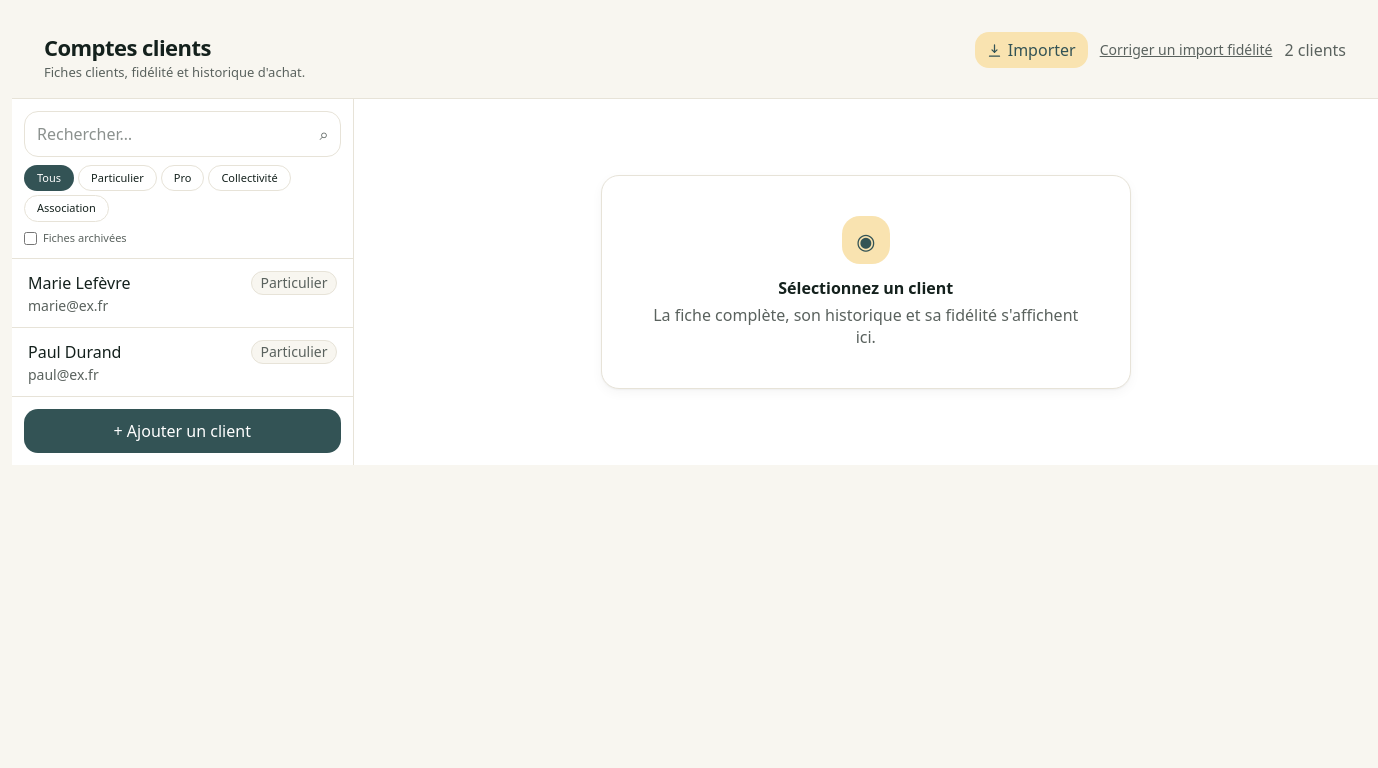
Fiche client — puces boutique(s) d'achat › affiche une puce par boutique où le client a déjà acheté, avec le vrai nom de la boutique
Click the text "Marie Lefèvre" at (79, 283), box left=28, top=271, right=130, bottom=295
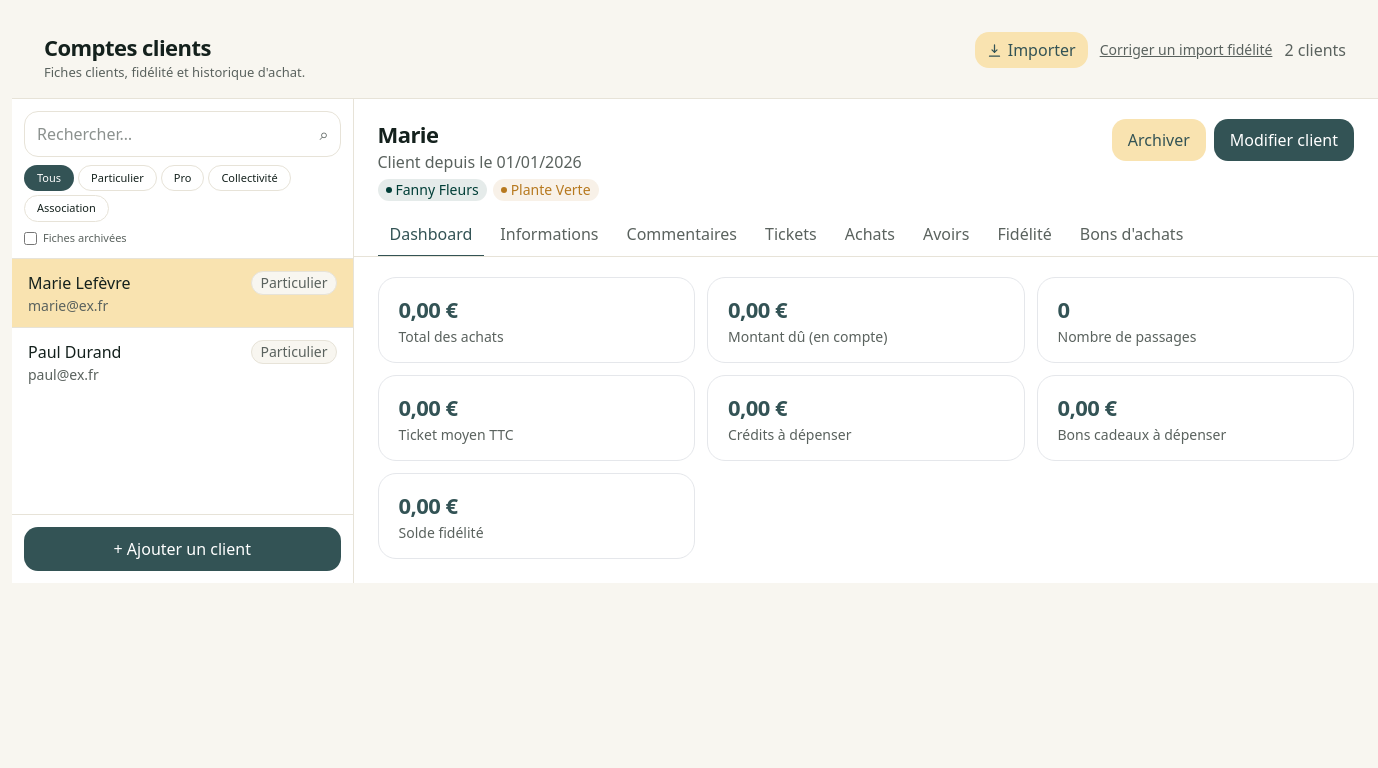
Now the text "Fanny Fleurs" is shown, box left=378, top=179, right=487, bottom=201
Now the text "Plante Verte" is shown, box left=493, top=179, right=598, bottom=201
